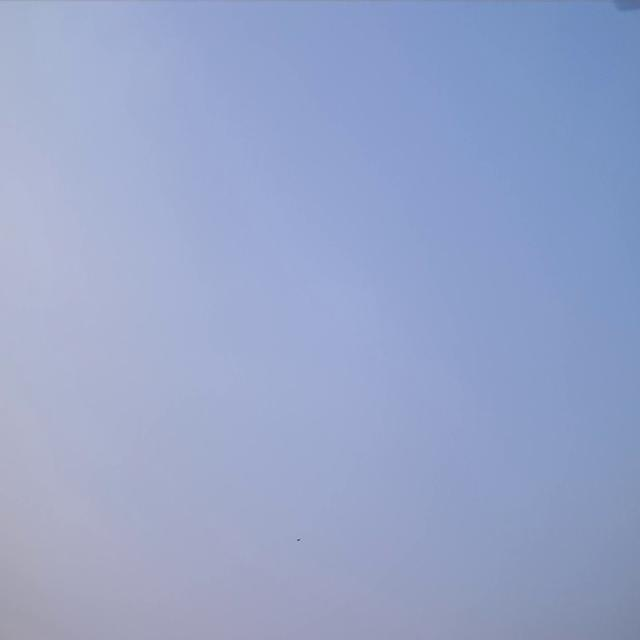UAV: (296, 538, 300, 542)
